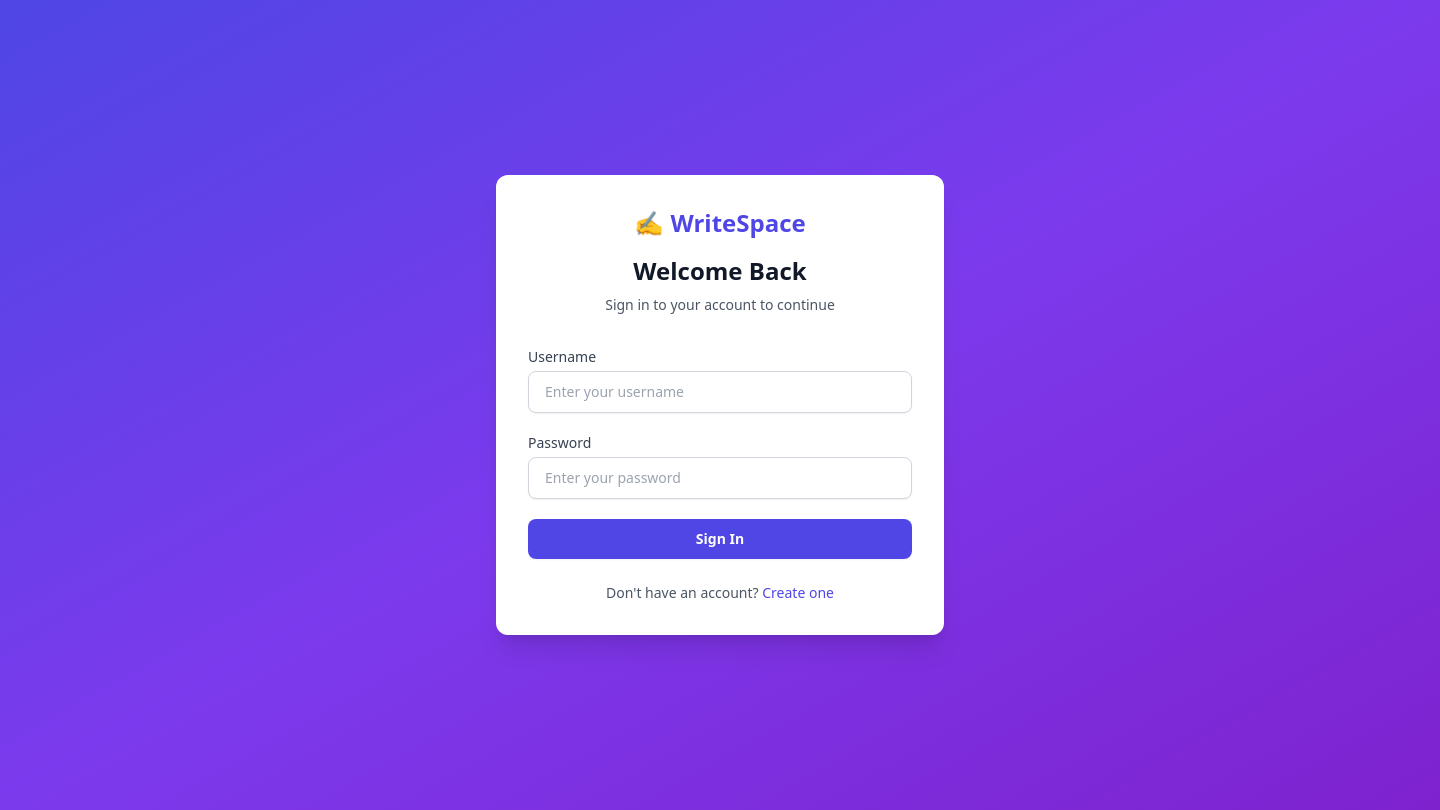
Test: LoginPage › Failed login › displays error message on invalid credentials
Step 1. Type "wronguser" into the field labelled "Username" → {"x": 720, "y": 392}, box [528,371,912,413]
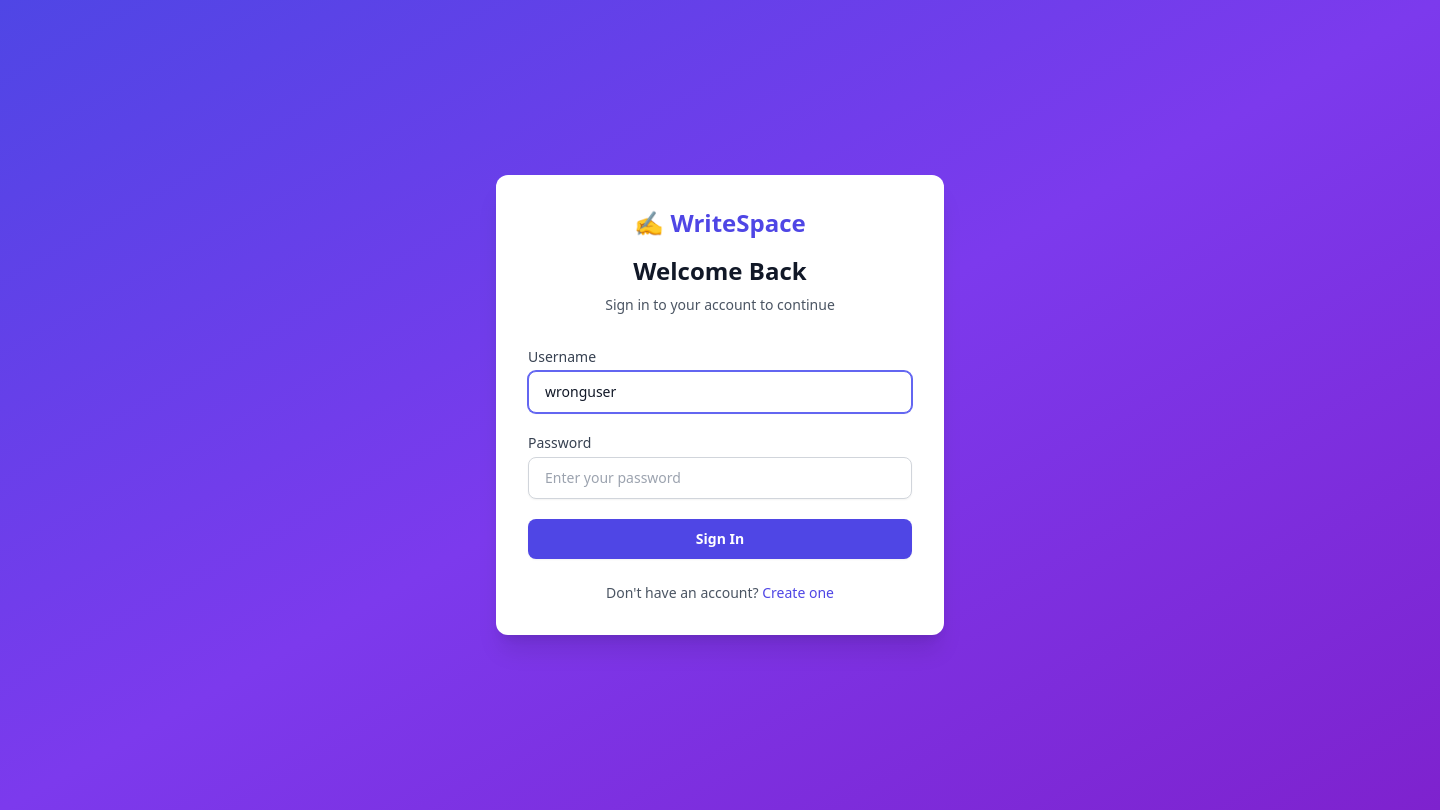
Step 2. Type "wrongpass" into the password field labelled "Password" → {"x": 720, "y": 478}, box [528,457,912,499]
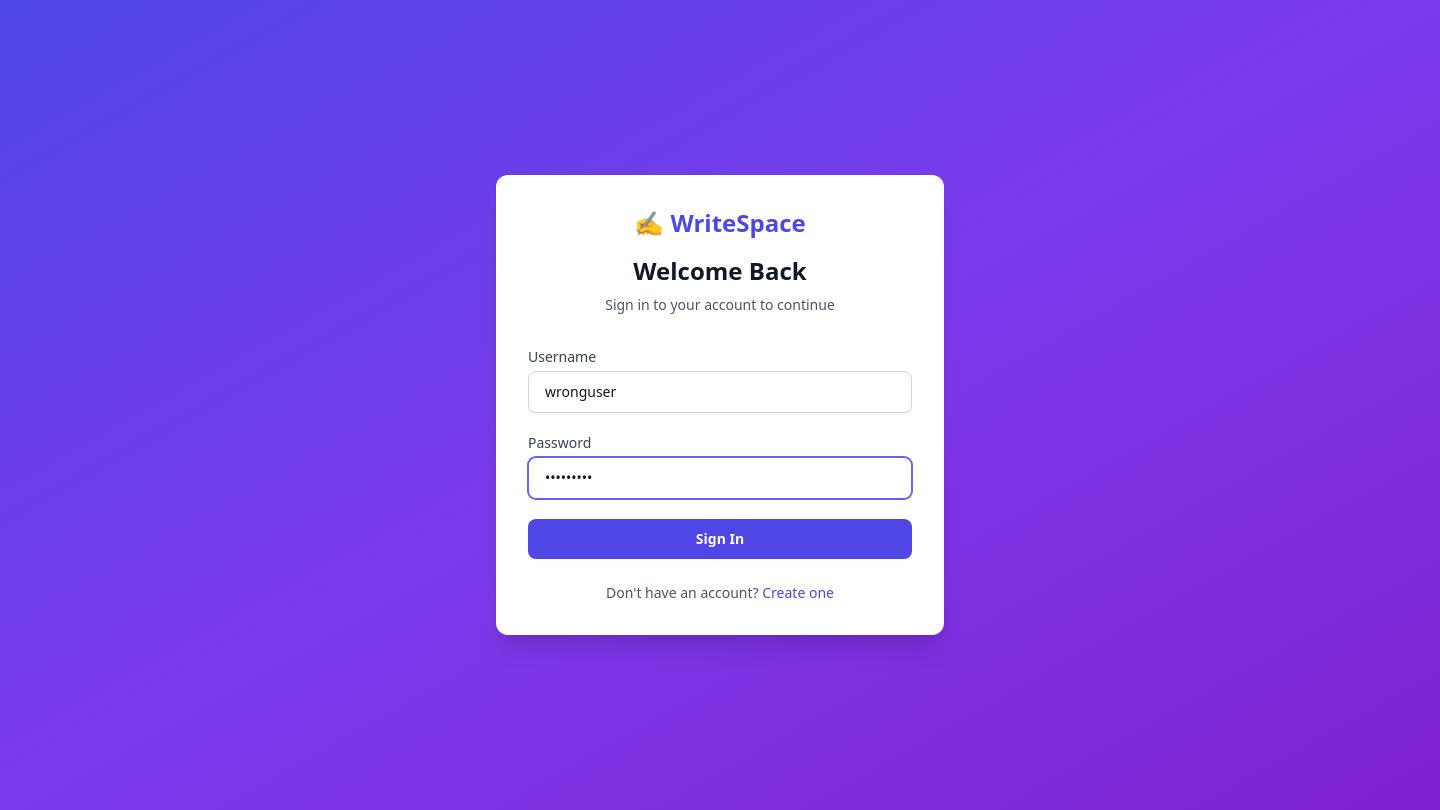
Step 3. Click the button "Sign In" → {"x": 720, "y": 539}, box [528,519,912,559]
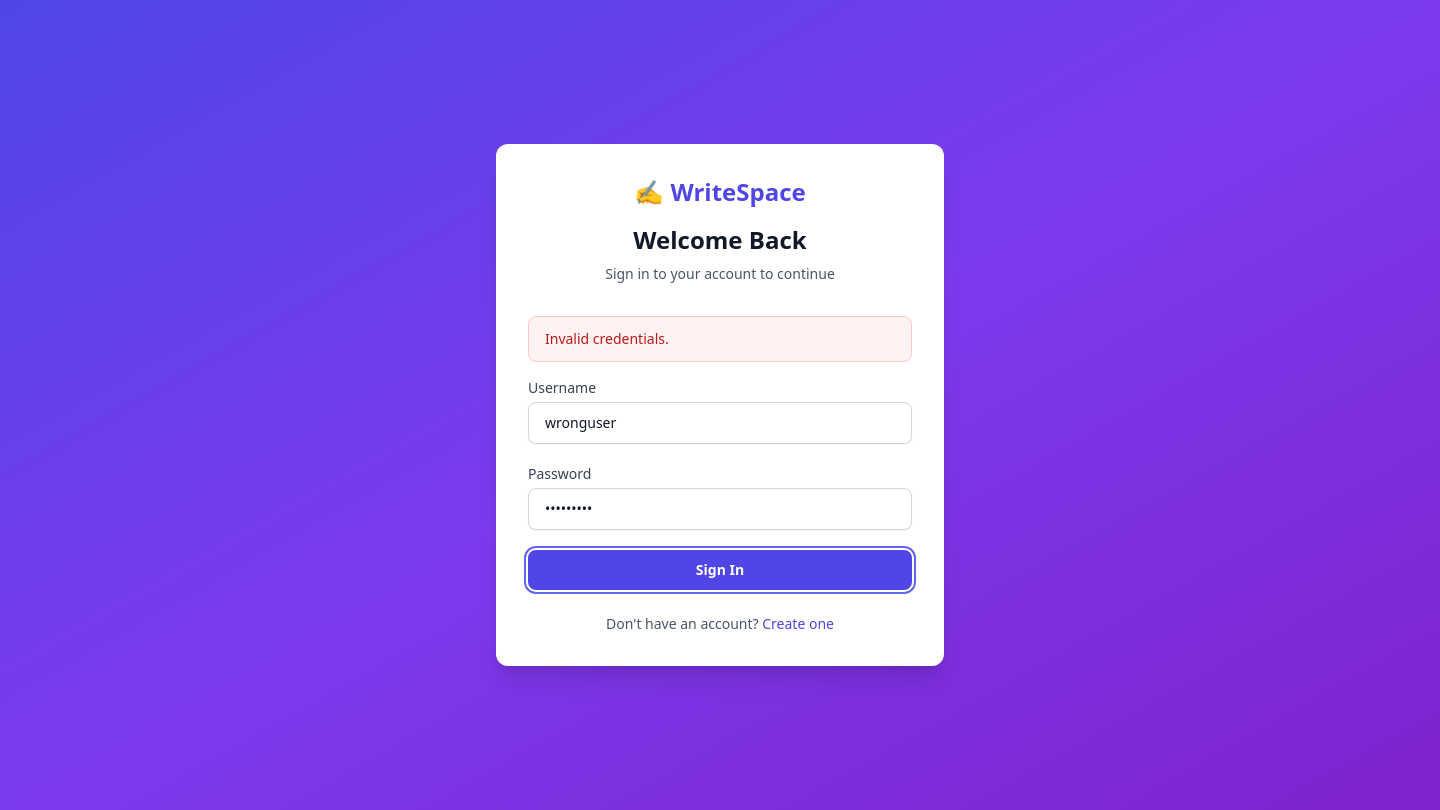
Result: the text "Invalid credentials." is shown at [528,316,912,362]
